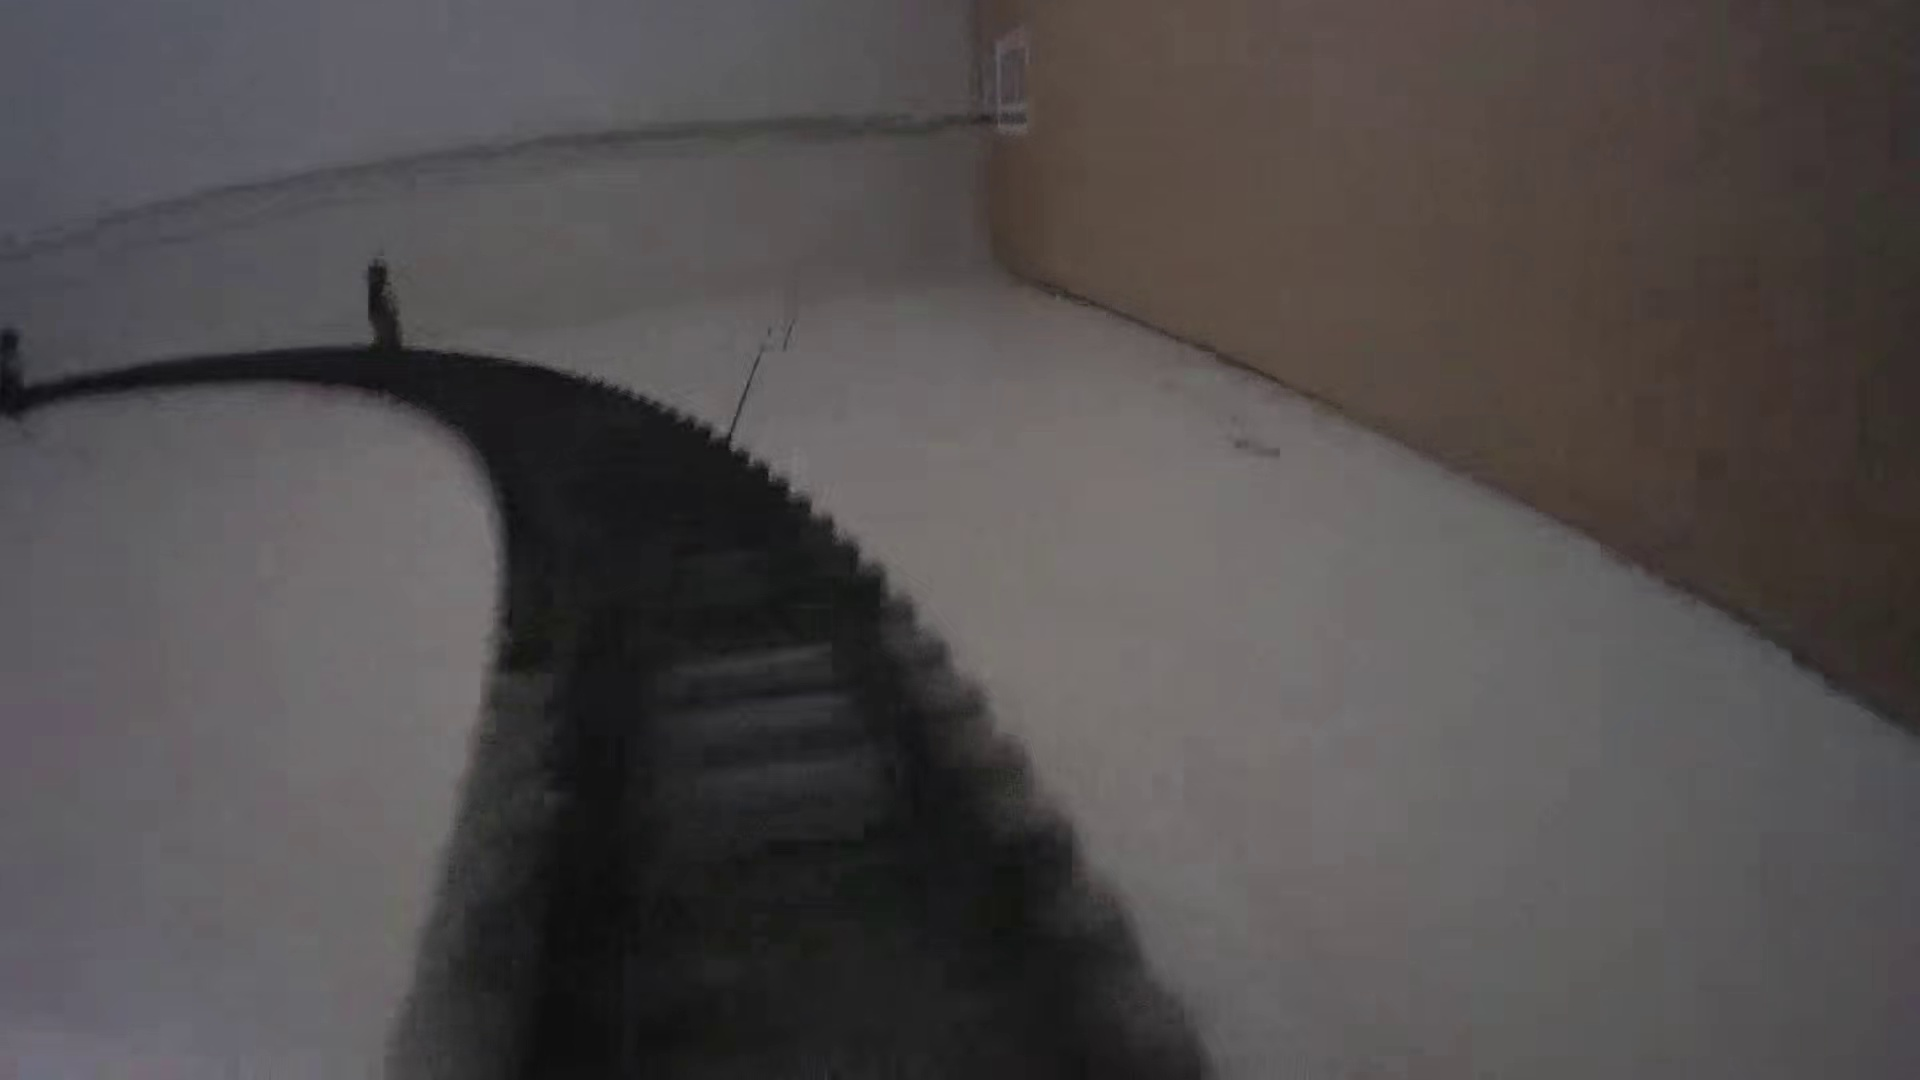people: (361, 257, 405, 351)
